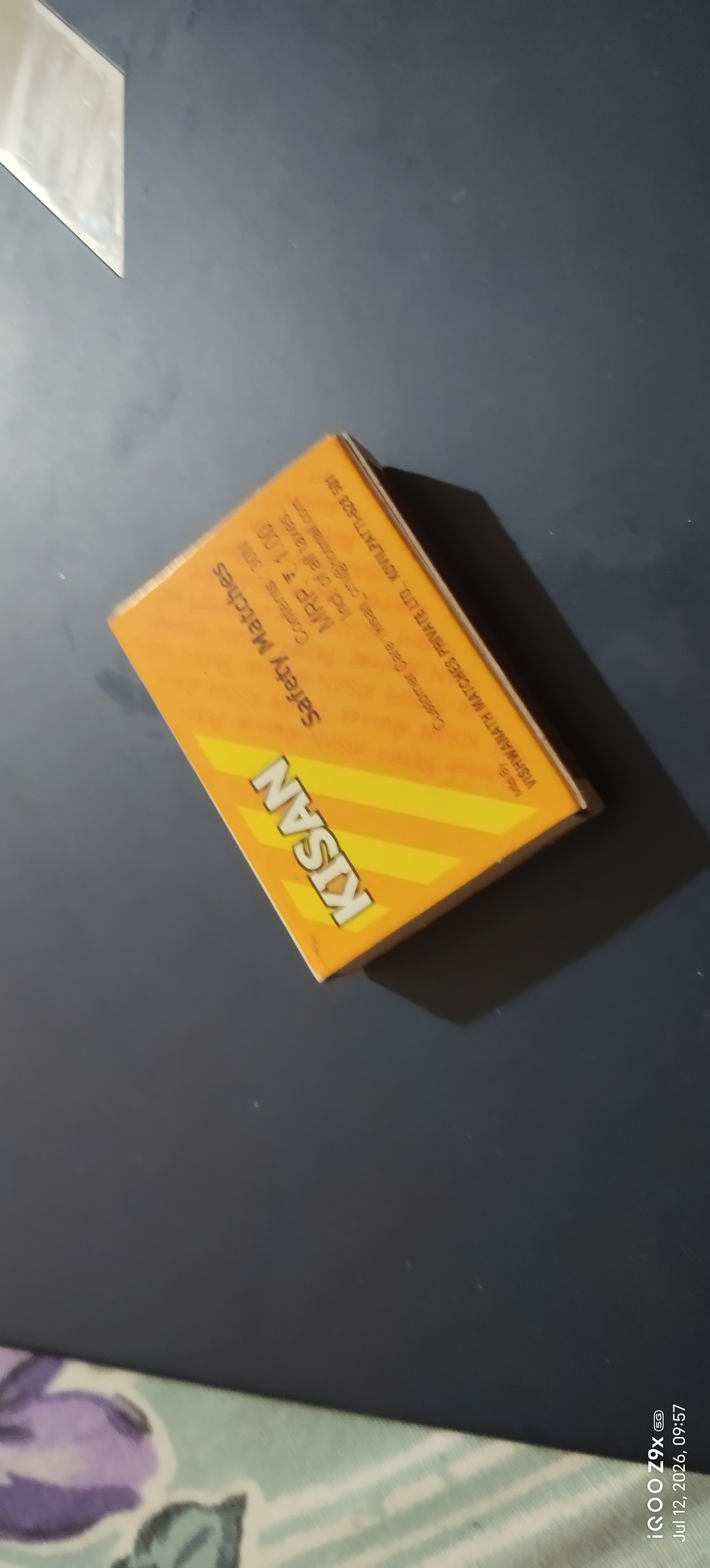matchbox: (75, 383, 632, 1084)
